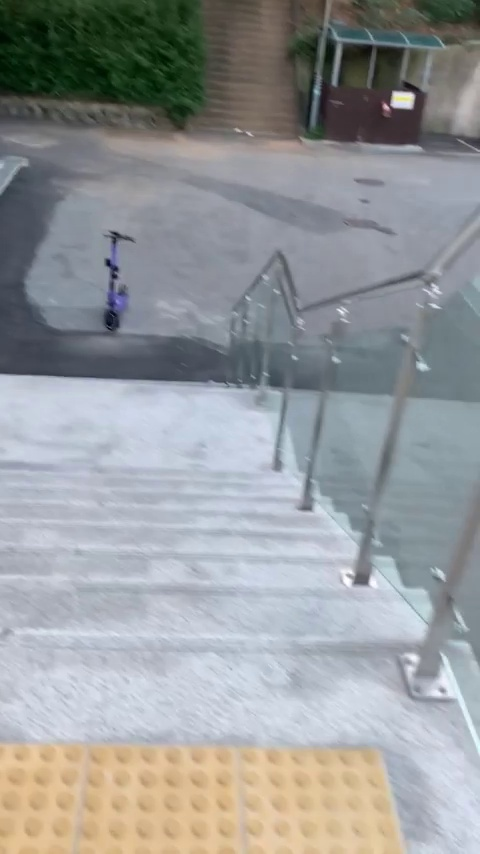beam: (95, 216, 150, 337)
